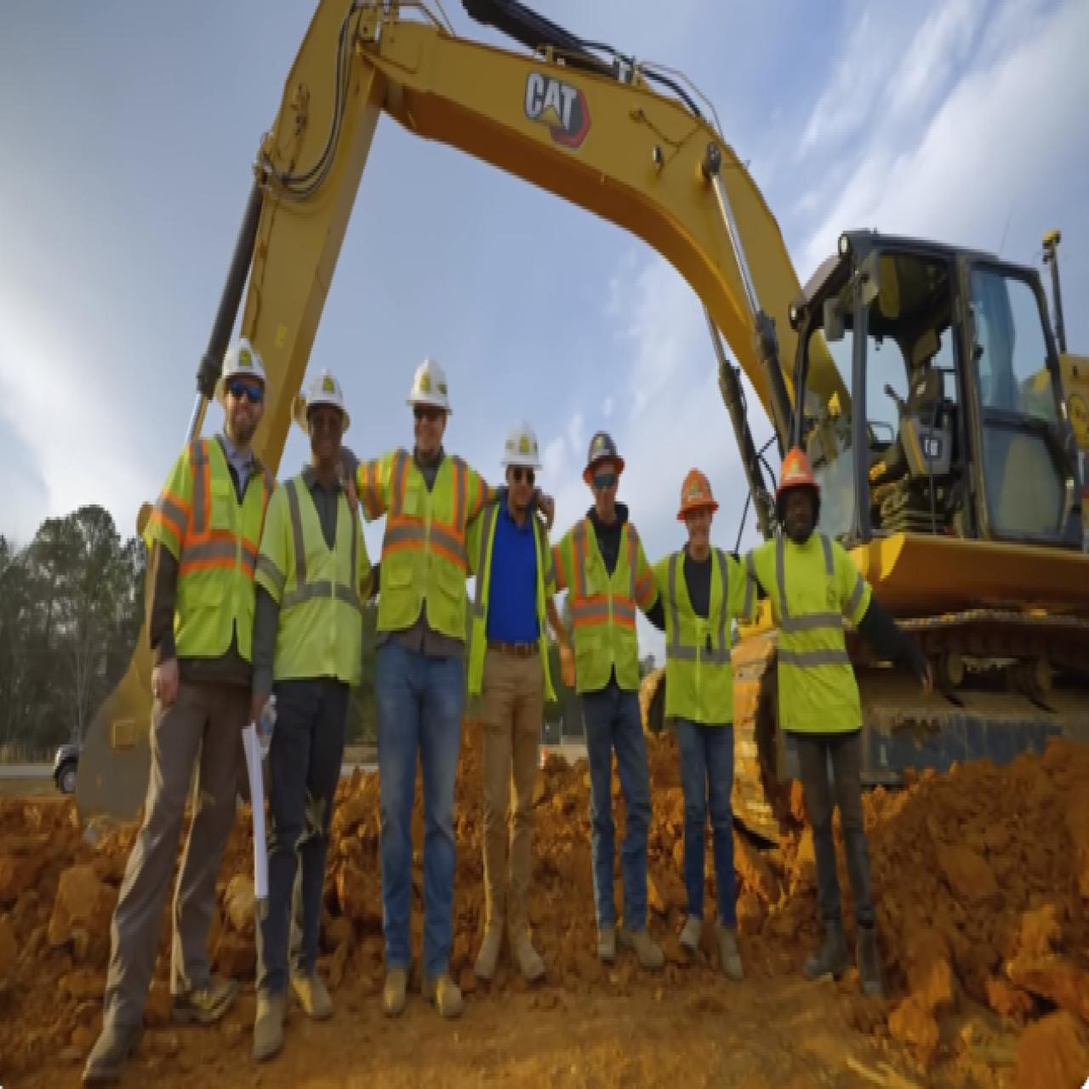NO_Safety_Vest: (145, 427, 268, 660), (255, 465, 362, 681), (363, 446, 475, 633), (763, 526, 854, 734), (476, 494, 559, 703), (563, 507, 654, 696), (660, 543, 741, 731)
Person: (103, 326, 267, 1089), (352, 343, 492, 1020), (251, 347, 375, 1048), (749, 429, 885, 993), (462, 395, 573, 985), (547, 428, 666, 972), (655, 450, 755, 965)
